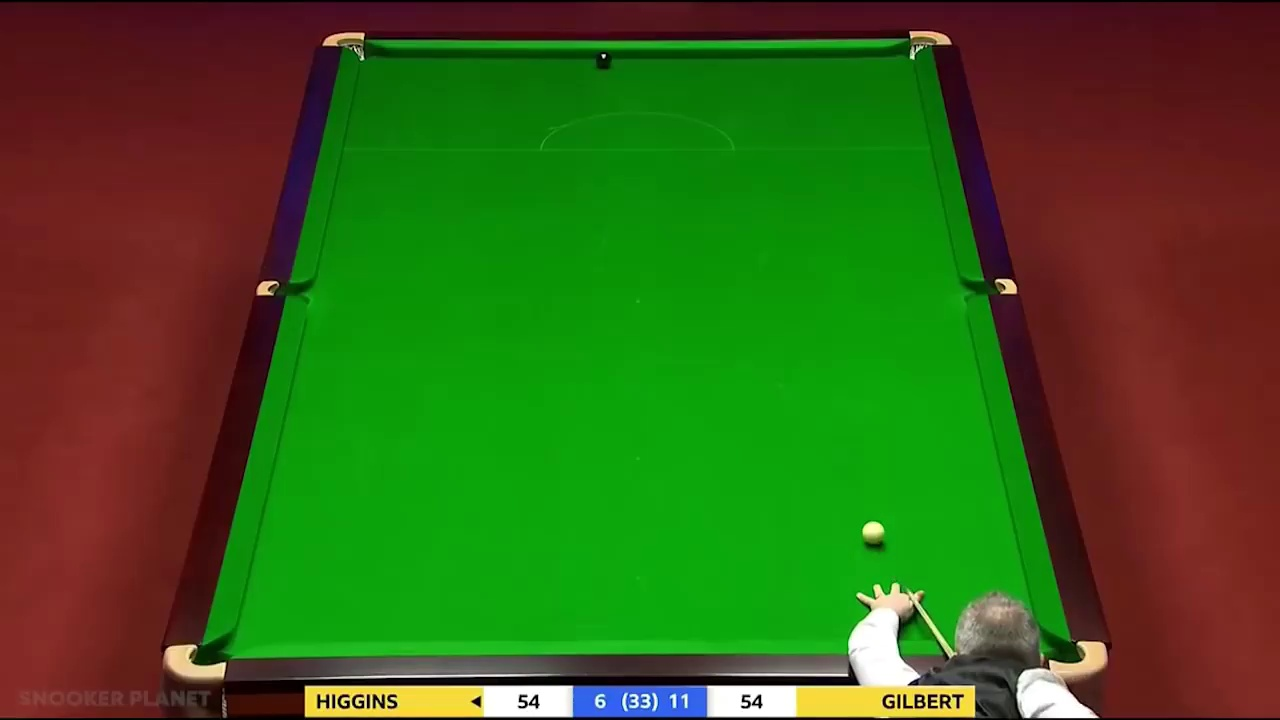ball: (861, 520, 886, 546), (592, 50, 611, 67)
